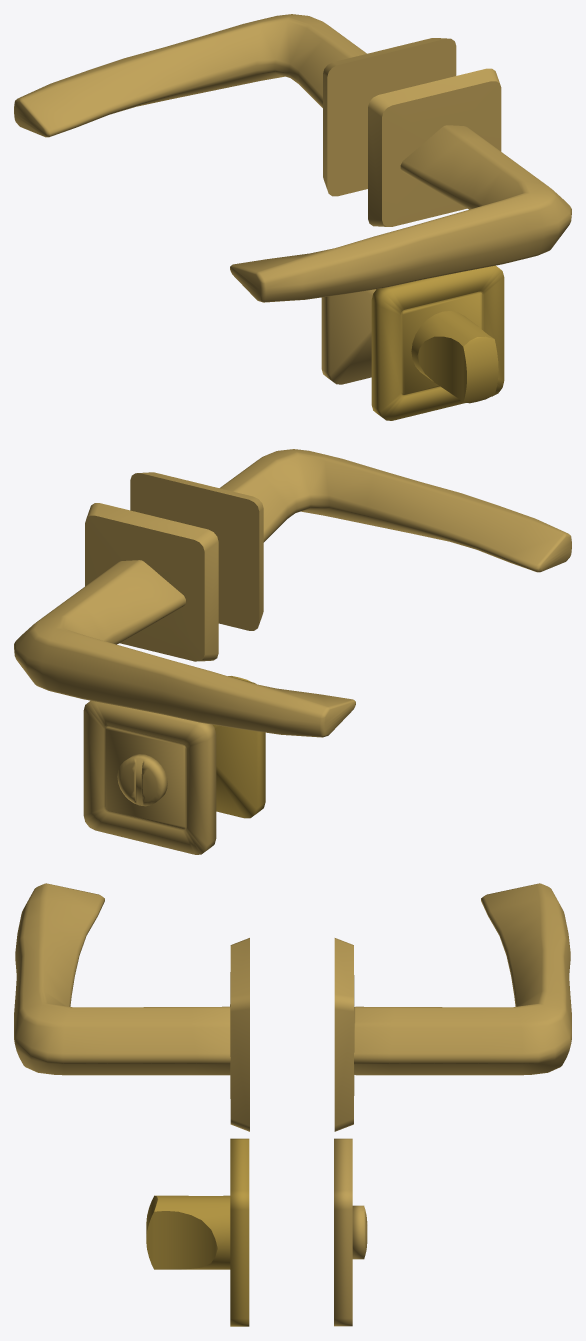
Rendered from 34_SOFIA_Brnak.glb.
The picture shows the model from 3 angles, top to bottom: view 1: azimuth 30°, elevation 25°; view 2: azimuth 150°, elevation 25°; view 3: azimuth 270°, elevation 25°; orthographic projection. The views are drawn at different scales.
Visible parts, largest first — view 1: 34_SOFIA_Brnak; view 2: 34_SOFIA_Brnak; view 3: 34_SOFIA_Brnak.
Part boxes in pixels (left/top/right/bottom): 34_SOFIA_Brnak: left=14, top=14, right=571, bottom=420; 34_SOFIA_Brnak: left=14, top=449, right=571, bottom=854; 34_SOFIA_Brnak: left=14, top=883, right=571, bottom=1326.
Size of the model in its own units: 0.1713 by 0.1547 by 0.2349.
